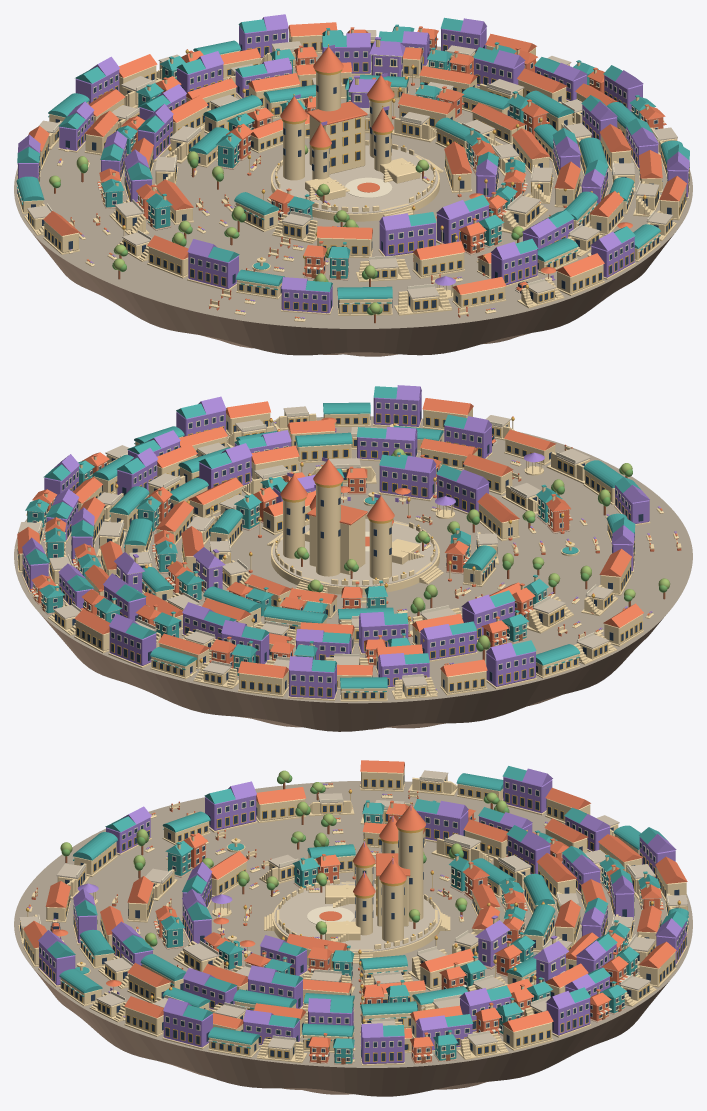
File: BopKingdom-collision.glb
3 renders of one model, top to bottom at view 1: azimuth 30°, elevation 25°; view 2: azimuth 150°, elevation 25°; view 3: azimuth 270°, elevation 25°, orthographic.
Parts seen in each view (by area): view 1: COL_castle_courtyard_0001, COL_ring_09_chunk_05_rock, COL_ring_09_chunk_04_rock, COL_ring_09_chunk_06_rock, COL_ring_08_chunk_04_rock, COL_ring_07_chunk_03_rock, COL_twin_gable_0078, COL_twin_gable_0210, COL_ring_08_chunk_03_rock, COL_twin_gable_0217, COL_twin_gable_0256, COL_twin_gable_0080 (+109 smaller); view 2: COL_castle_courtyard_0001, COL_ring_09_chunk_02_rock, COL_ring_09_chunk_03_rock, COL_ring_09_chunk_01_rock, COL_ring_09_chunk_04_rock, COL_twin_gable_0080, COL_ring_08_chunk_04_rock, COL_twin_gable_0296, COL_twin_gable_0290, COL_twin_gable_0312, COL_twin_gable_0284, COL_twin_gable_0165 (+106 smaller); view 3: COL_castle_courtyard_0001, COL_ring_09_chunk_00_rock, COL_ring_09_chunk_07_rock, COL_twin_gable_0210, COL_twin_gable_0318, COL_twin_gable_0296, COL_ring_09_chunk_06_rock, COL_twin_gable_0272, COL_ring_06_chunk_04_rock, COL_ring_09_chunk_01_rock, COL_twin_gable_0277, COL_twin_gable_0131 (+115 smaller).
Boxes of the visible parts, x1,y1,x2,y2 form: COL_castle_courtyard_0001: [267, 44, 443, 221]; COL_ring_09_chunk_05_rock: [268, 301, 526, 356]; COL_ring_09_chunk_04_rock: [61, 252, 275, 353]; COL_ring_09_chunk_06_rock: [500, 222, 681, 341]; COL_ring_08_chunk_04_rock: [85, 246, 281, 312]; COL_ring_07_chunk_03_rock: [68, 155, 123, 246]; COL_twin_gable_0078: [378, 212, 436, 257]; COL_twin_gable_0210: [187, 239, 239, 290]; COL_ring_08_chunk_03_rock: [41, 152, 107, 251]; COL_twin_gable_0217: [491, 238, 538, 287]; COL_twin_gable_0256: [281, 277, 333, 314]; COL_twin_gable_0080: [436, 195, 489, 243]; COL_castle_courtyard_0001: [267, 457, 443, 594]; COL_ring_09_chunk_02_rock: [187, 676, 443, 731]; COL_ring_09_chunk_03_rock: [429, 629, 648, 726]; COL_ring_09_chunk_01_rock: [27, 596, 202, 712]; COL_ring_09_chunk_04_rock: [625, 522, 692, 659]; COL_twin_gable_0080: [378, 454, 436, 501]; COL_ring_08_chunk_04_rock: [602, 525, 665, 620]; COL_twin_gable_0296: [486, 640, 536, 688]; COL_twin_gable_0290: [288, 656, 337, 700]; COL_twin_gable_0312: [373, 385, 422, 427]; COL_twin_gable_0284: [108, 613, 156, 668]; COL_twin_gable_0165: [420, 621, 477, 661]; COL_castle_courtyard_0001: [264, 802, 450, 963]; COL_ring_09_chunk_00_rock: [357, 1023, 597, 1096]; COL_ring_09_chunk_07_rock: [118, 1022, 357, 1094]; COL_twin_gable_0210: [204, 781, 257, 832]; COL_twin_gable_0318: [162, 997, 213, 1049]; COL_twin_gable_0296: [502, 766, 552, 815]; COL_ring_09_chunk_06_rock: [14, 924, 138, 1056]; COL_twin_gable_0272: [360, 1023, 404, 1065]; COL_ring_06_chunk_04_rock: [204, 815, 357, 850]; COL_ring_09_chunk_01_rock: [577, 924, 692, 1052]; COL_twin_gable_0277: [546, 987, 591, 1037]; COL_twin_gable_0131: [414, 799, 468, 842].
Size of the model in its own units: 94.9 by 42.8 by 94.8.
